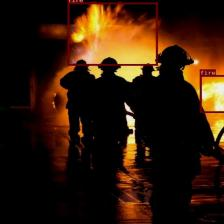fire: (67, 2, 157, 66), (199, 74, 224, 113)
